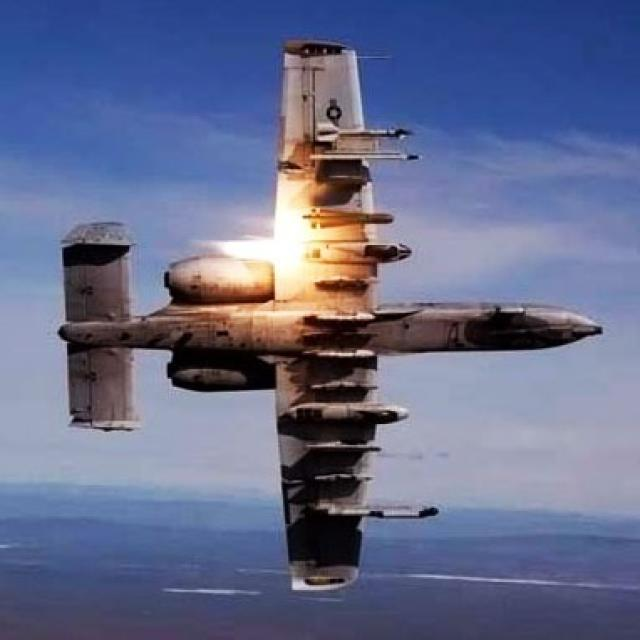B1: (37, 33, 611, 616)
